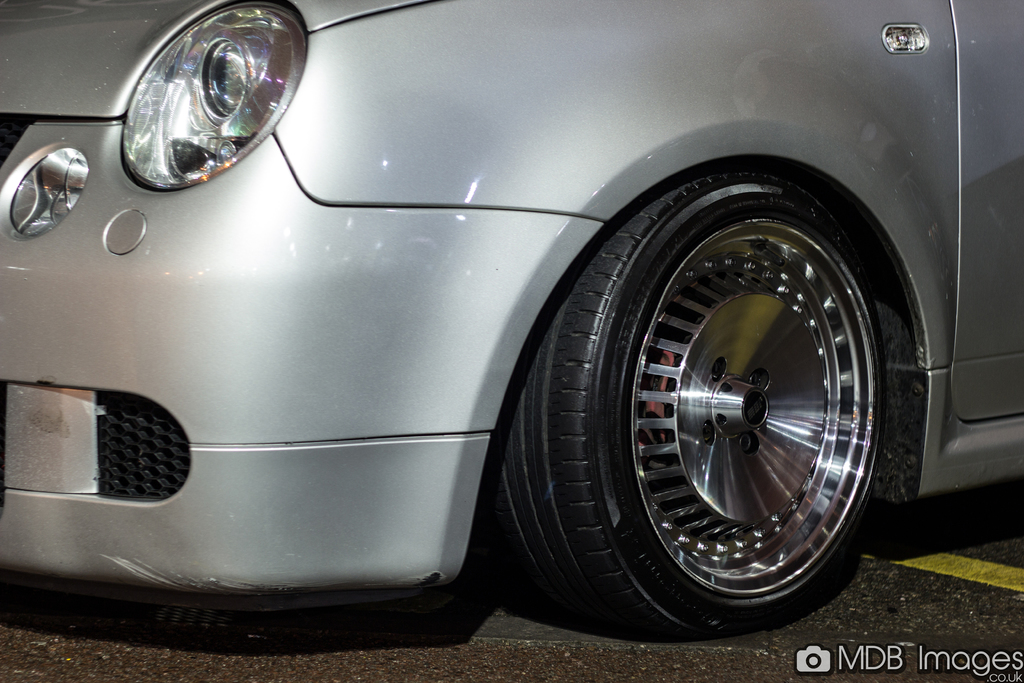Wheel: (486, 165, 888, 642)
